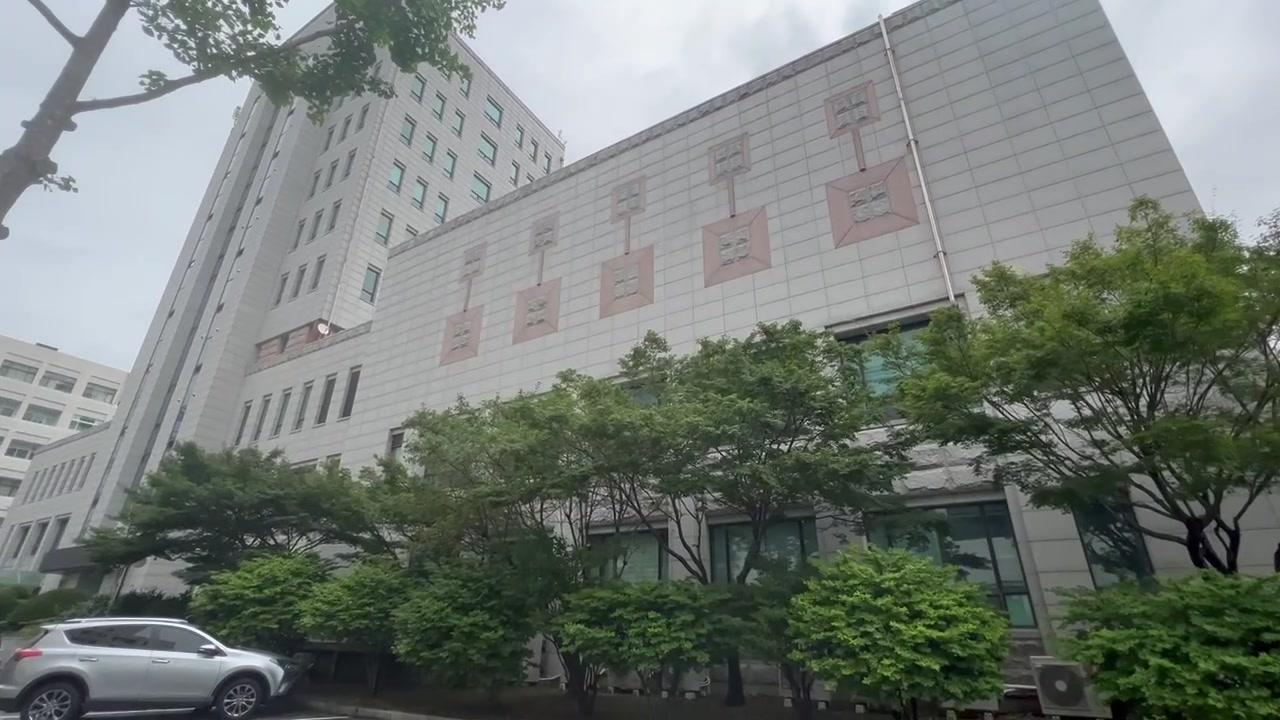building: (189, 101, 944, 350)
